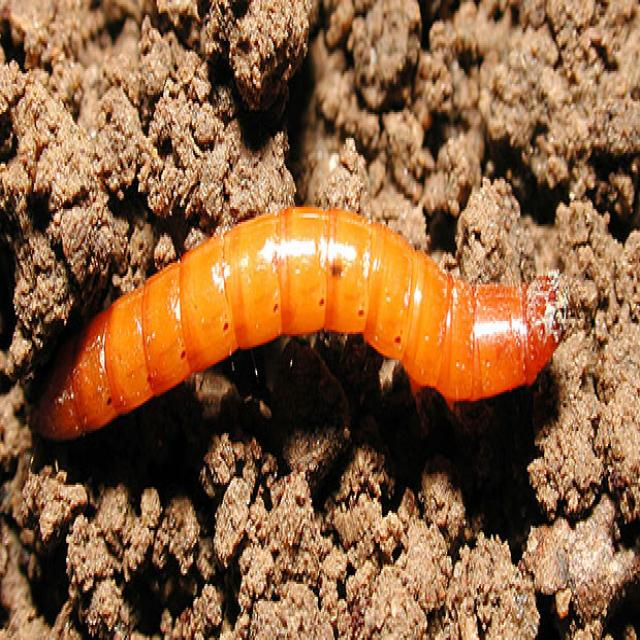wireworm: (28, 197, 570, 445)
